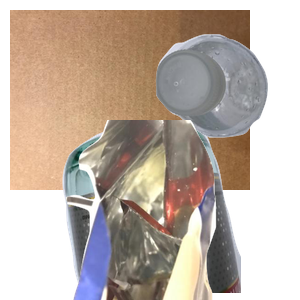cardboard: (10, 10, 250, 190)
glass: (60, 120, 300, 300)
plastic: (153, 31, 300, 161)
trash: (63, 120, 300, 300)
